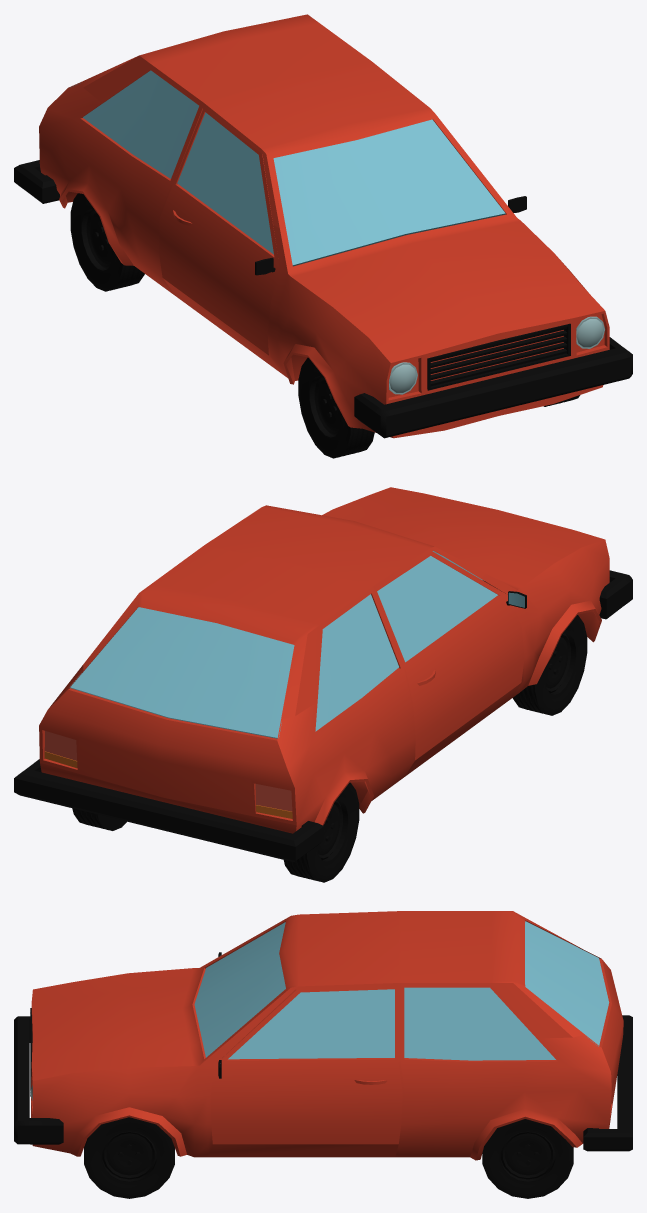
The model's file is 90sVolkWagen.fbx.
The picture shows the model from 3 angles, top to bottom: view 1: azimuth 30°, elevation 25°; view 2: azimuth 150°, elevation 25°; view 3: azimuth 270°, elevation 25°; orthographic projection. The views are drawn at different scales.
Parts seen in each view (by area): view 1: carBody, carBodyHood, windShield, doorL, frontBonet, glass_4, backGlassL, frontRadiator, tyreFL, tyreBL, backBonet, HlightR (+1 smaller); view 2: carBody, carBodyHood, backWindShield, doorL, backBonet, glass_4, backGlassL, tyreFL, tyreBL, frontBonet, backLightL, backLightR (+1 smaller); view 3: carBody, carBodyHood, doorR, glass_2, backGlassR, windShield, backWindShield, tyreFR, tyreBR, frontBonet, backBonet.
Part boxes in pixels (x1=…): carBody: x1=39, y1=81, x2=609, y2=438; carBodyHood: x1=83, y1=14, x2=485, y2=228; windShield: x1=273, y1=119, x2=505, y2=266; doorL: x1=159, y1=109, x2=279, y2=355; frontBonet: x1=354, y1=337, x2=632, y2=438; glass_4: x1=177, y1=112, x2=273, y2=254; backGlassL: x1=83, y1=70, x2=198, y2=178; frontRadiator: x1=427, y1=323, x2=570, y2=390; tyreFL: x1=298, y1=357, x2=374, y2=458; tyreBL: x1=70, y1=193, x2=144, y2=291; backBonet: x1=14, y1=160, x2=59, y2=203; HlightR: x1=576, y1=316, x2=604, y2=348; carBody: x1=39, y1=487, x2=609, y2=833; carBodyHood: x1=83, y1=505, x2=485, y2=719; backWindShield: x1=70, y1=607, x2=294, y2=738; doorL: x1=375, y1=551, x2=524, y2=760; backBonet: x1=14, y1=759, x2=323, y2=862; glass_4: x1=377, y1=556, x2=497, y2=662; backGlassL: x1=315, y1=594, x2=398, y2=731; tyreFL: x1=513, y1=615, x2=587, y2=715; tyreBL: x1=283, y1=782, x2=359, y2=882; frontBonet: x1=599, y1=570, x2=632, y2=619; backLightL: x1=255, y1=784, x2=292, y2=811; backLightR: x1=44, y1=731, x2=77, y2=760; carBody: x1=31, y1=948, x2=623, y2=1160; carBodyHood: x1=234, y1=911, x2=584, y2=1038; doorR: x1=210, y1=987, x2=402, y2=1144; glass_2: x1=228, y1=989, x2=394, y2=1059; backGlassR: x1=404, y1=987, x2=555, y2=1060; windShield: x1=194, y1=922, x2=285, y2=1057; backWindShield: x1=525, y1=921, x2=609, y2=1046; tyreFR: x1=84, y1=1117, x2=174, y2=1198; tyreBR: x1=482, y1=1119, x2=573, y2=1198; frontBonet: x1=14, y1=1016, x2=63, y2=1144; backBonet: x1=583, y1=1015, x2=632, y2=1151.
Bounding box in the file's own units: 97.58 × 77.48 × 212.
